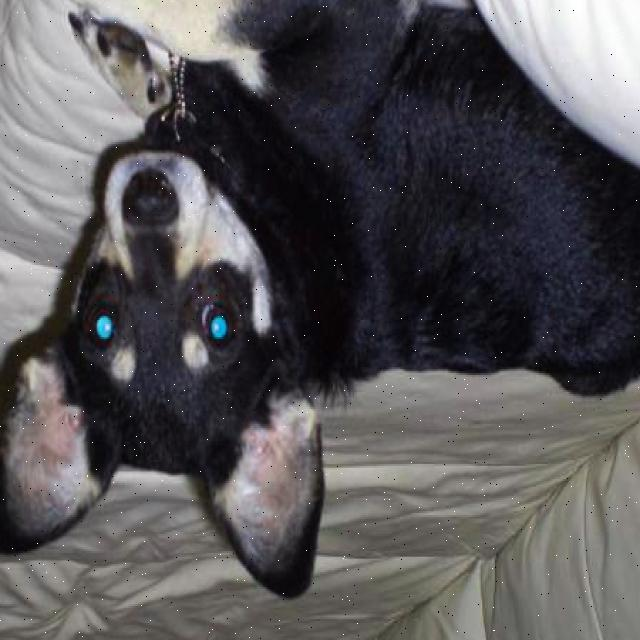Dog: (0, 144, 336, 615)
